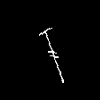treble_crochet: (39, 28, 63, 82)
